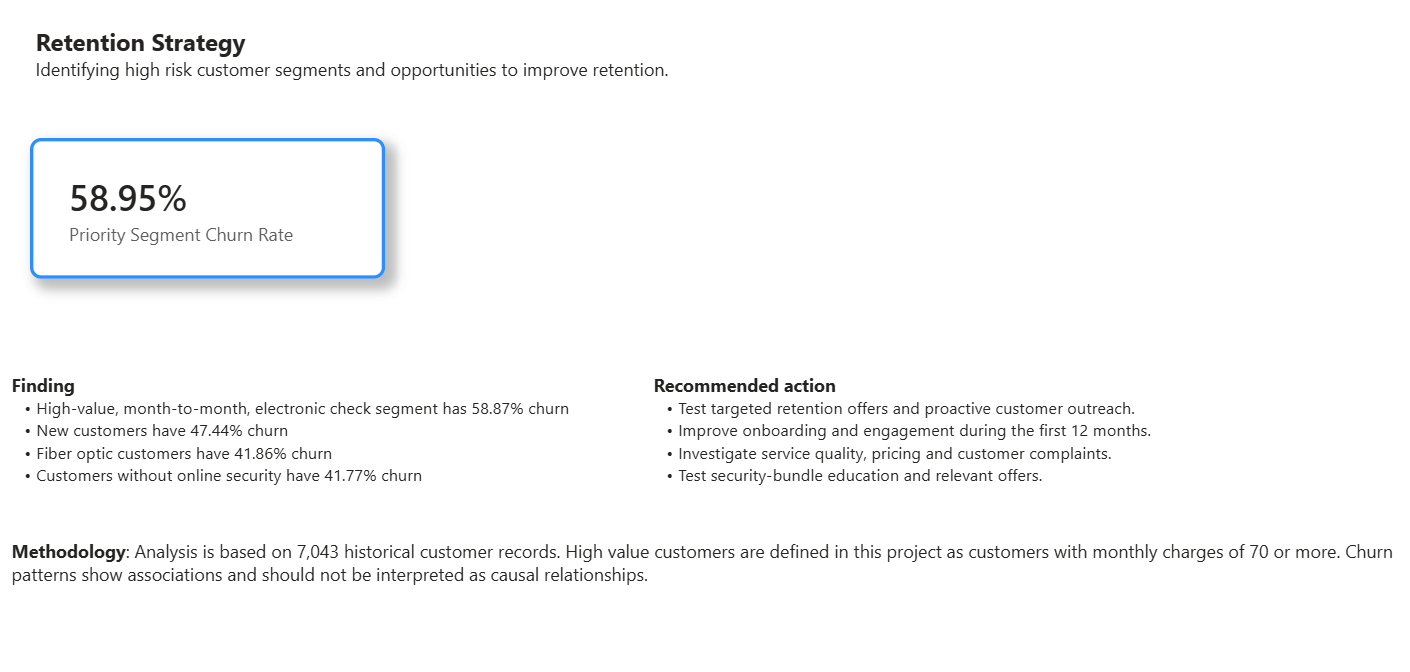

This screenshot's page, from the dashboard's own definition file:
{"tool":"powerbi","page":{"name":"Retention Strategy","canvas":[1280,720],"ordinal":2},"visuals":[{"type":"textbox","box":[31.3,28.7,668.1,74.3],"z":0},{"type":"cardVisual","fields":{"Data":["Telco-Customer-Churn.Priority Segment Churn Rate"]},"box":[31.3,134.3,317.9,126.3],"z":1000},{"type":"textbox","box":[9.9,339.4,574.9,162.1],"z":2000},{"type":"textbox","box":[584.8,339.4,574.9,162.1],"z":3000},{"type":"textbox","box":[9.9,488.1,1256.4,82.4],"z":4000}]}

Visuals, with their boxes on the page's 1280x720 design canvas (x1, y1, x2, y2). These are canvas units, not pixel positions in the 1410x672 screenshot, which may show the page scaled, cropped or inside an application window:
textbox: (31,29,699,103)
cardVisual - Telco-Customer-Churn.Priority Segment Churn Rate: (31,134,349,261)
textbox: (10,339,585,502)
textbox: (585,339,1160,502)
textbox: (10,488,1266,570)
